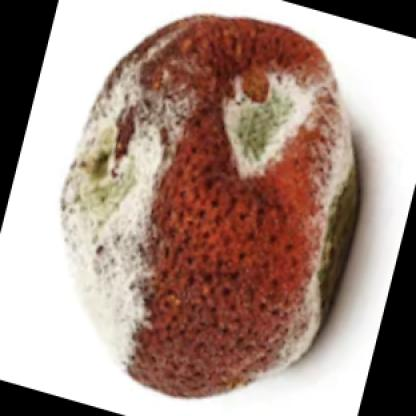rotten: (56, 17, 361, 399)
